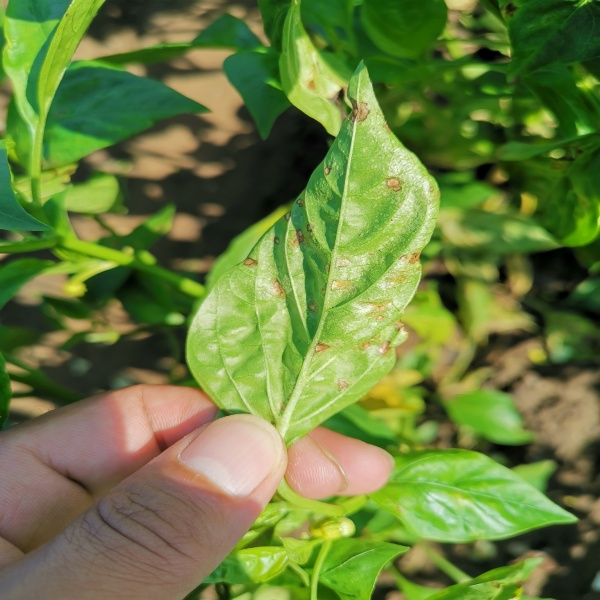Anthrax: (242, 172, 420, 391), (308, 78, 374, 128)
